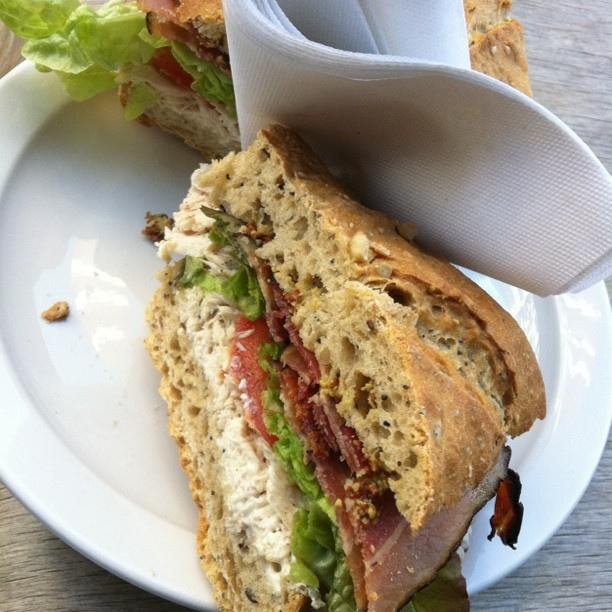lettuce: (0, 0, 147, 103), (256, 340, 320, 500), (137, 27, 238, 122), (288, 489, 356, 611), (178, 254, 266, 322), (399, 553, 470, 612), (124, 82, 160, 122)
tomato: (227, 315, 278, 449), (148, 46, 194, 88)
